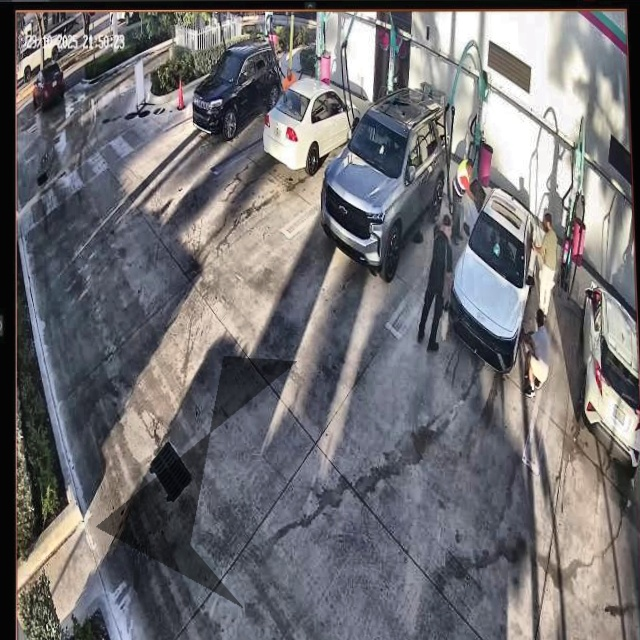Car: (319, 90, 453, 278), (445, 184, 542, 374), (264, 75, 363, 176)
